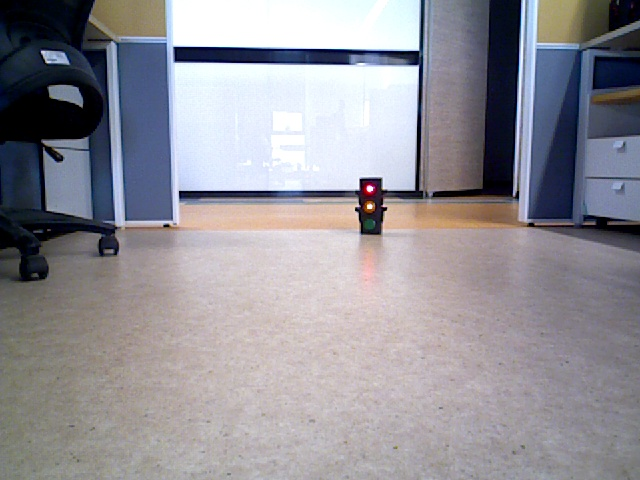red: (359, 180, 381, 231)
